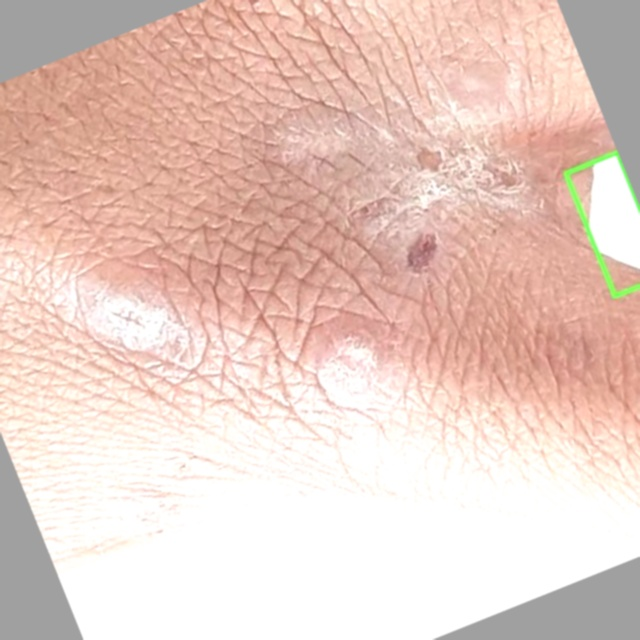Scabies: (565, 153, 639, 296)
